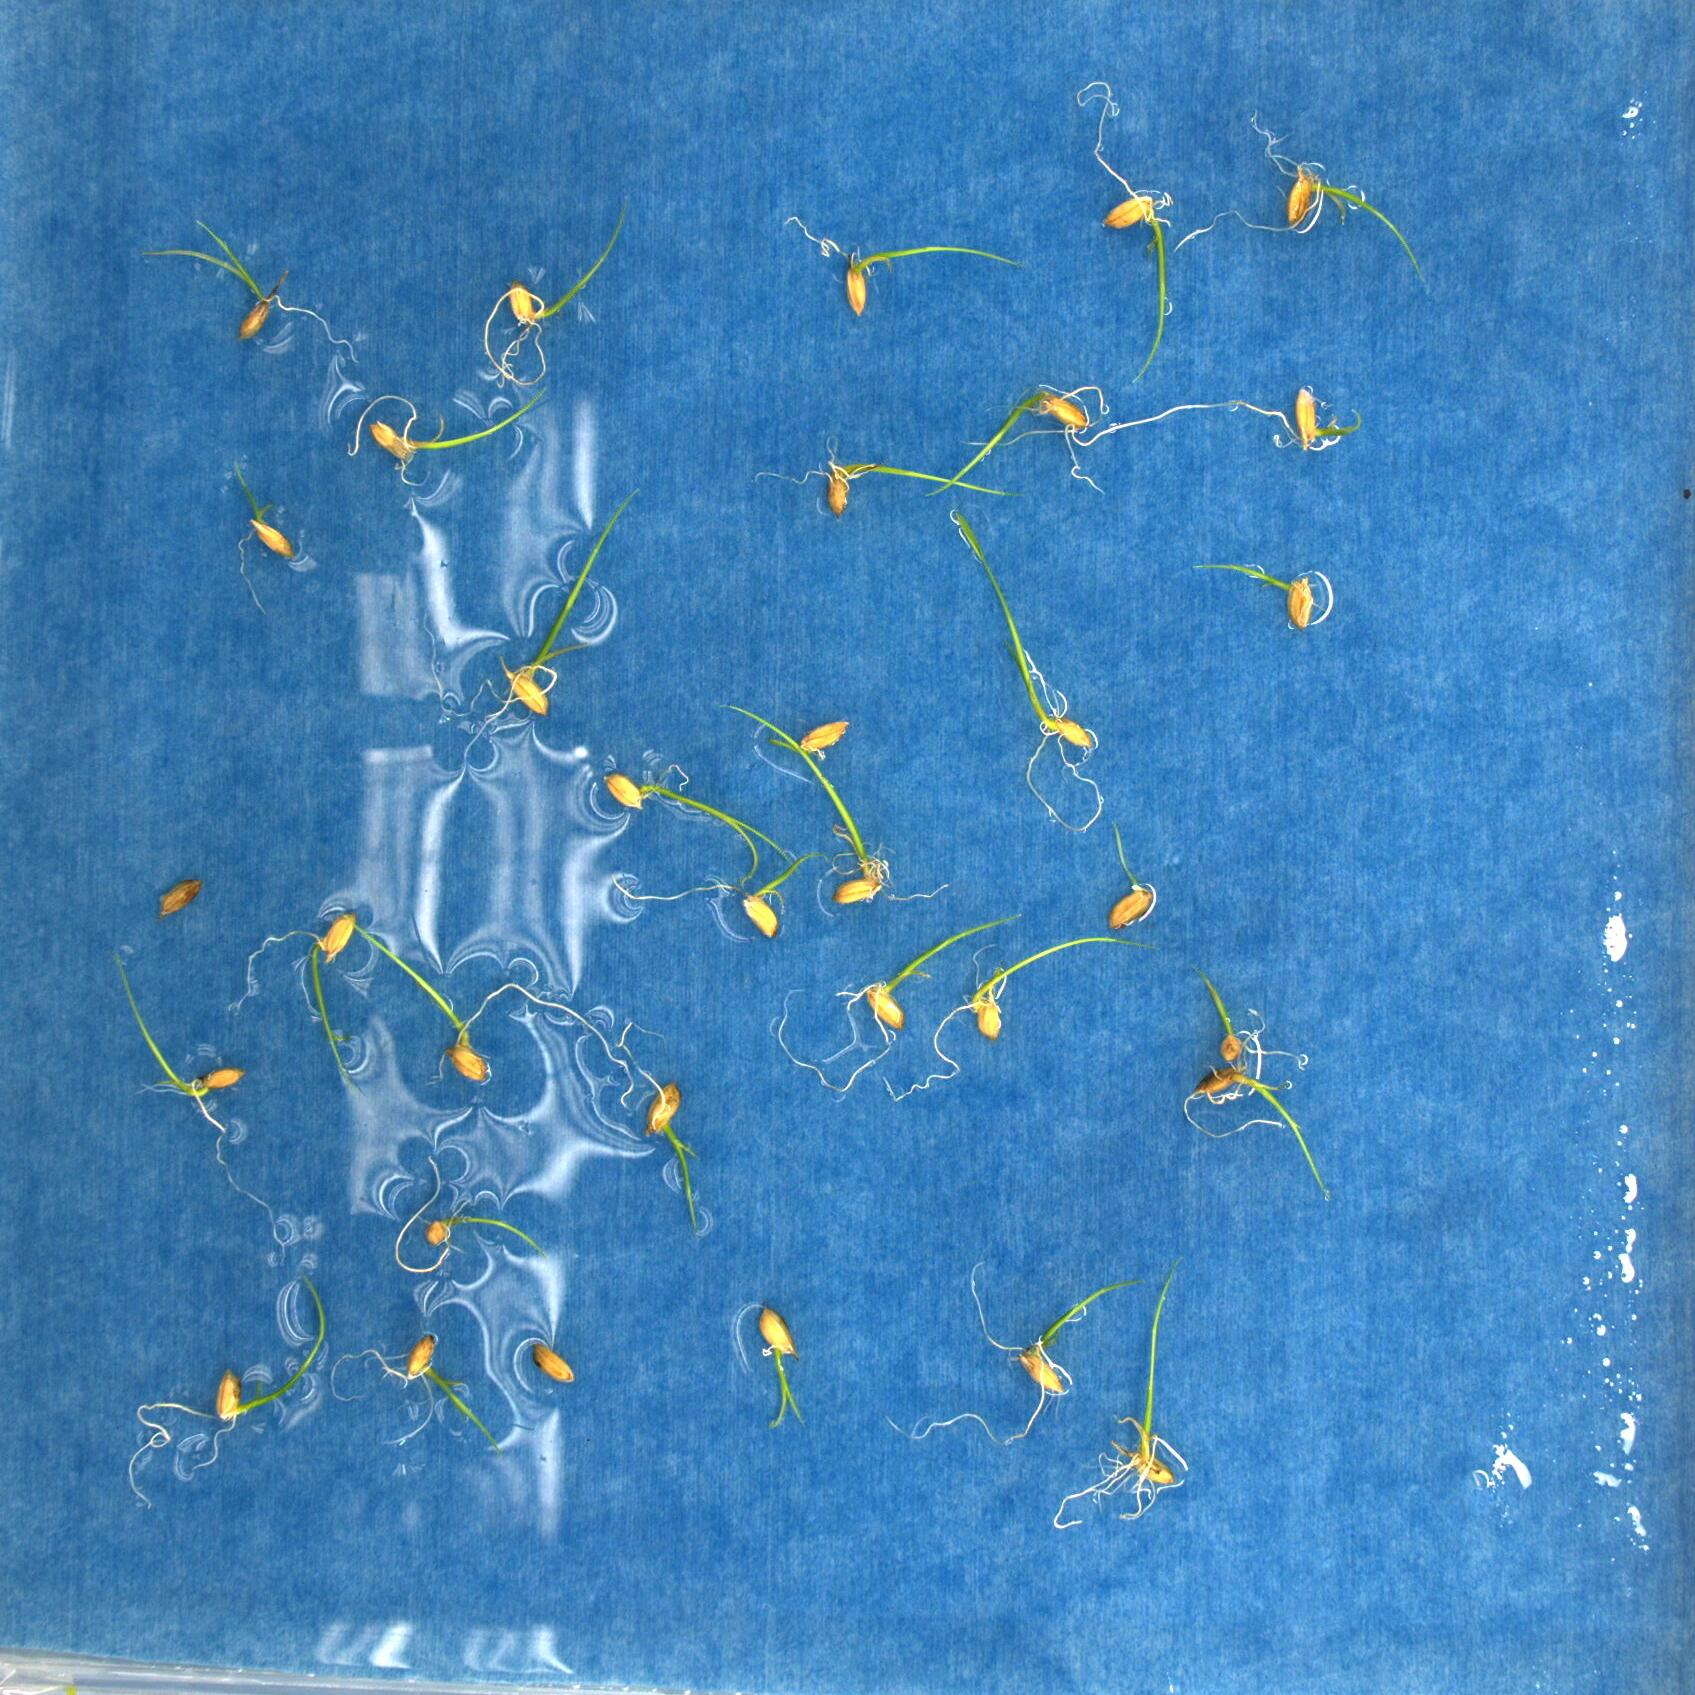not sprout: (528, 1336, 579, 1388), (157, 874, 206, 920)
sprout: (115, 945, 286, 1263), (352, 924, 635, 1111), (425, 484, 641, 725), (951, 508, 1107, 830), (885, 1256, 1146, 1447), (883, 934, 1166, 1104), (126, 1273, 328, 1507), (722, 705, 955, 906), (779, 911, 1024, 1093), (1173, 106, 1425, 279), (1052, 1260, 1180, 1532), (144, 219, 362, 365), (1077, 78, 1170, 383), (483, 192, 630, 385), (782, 217, 1024, 320), (599, 771, 802, 886), (924, 385, 1108, 500), (331, 1330, 501, 1454), (234, 910, 359, 1079), (750, 442, 1031, 517), (345, 386, 546, 484), (393, 1152, 551, 1274), (1184, 1066, 1329, 1195), (612, 854, 827, 939), (1068, 394, 1364, 452), (231, 456, 293, 615), (1191, 563, 1316, 629), (647, 1080, 700, 1231), (1191, 965, 1271, 1060), (757, 1304, 810, 1433), (1108, 820, 1156, 930), (767, 716, 851, 757)
